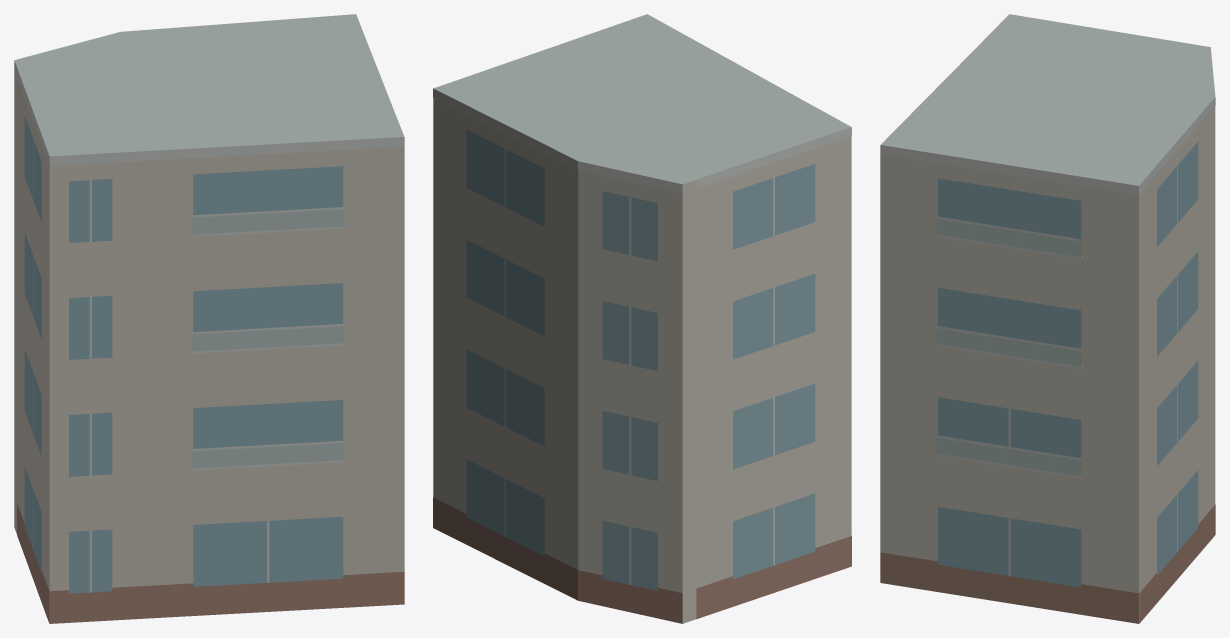
File: survey-upis-32726295.glb
The picture shows the model from 3 angles, left to right: view 1: azimuth 30°, elevation 25°; view 2: azimuth 150°, elevation 25°; view 3: azimuth 270°, elevation 25°; orthographic projection. The views are drawn at different scales.
Parts seen in each view (by area): view 1: survey-upis-32726295.tmp; view 2: survey-upis-32726295.tmp; view 3: survey-upis-32726295.tmp.
Part boxes in pixels (x1=…): survey-upis-32726295.tmp: x1=14, y1=14, x2=404, y2=623; survey-upis-32726295.tmp: x1=433, y1=14, x2=851, y2=623; survey-upis-32726295.tmp: x1=880, y1=14, x2=1215, y2=623.
Size of the model in its own units: 9.86 by 11.7 by 8.12.
